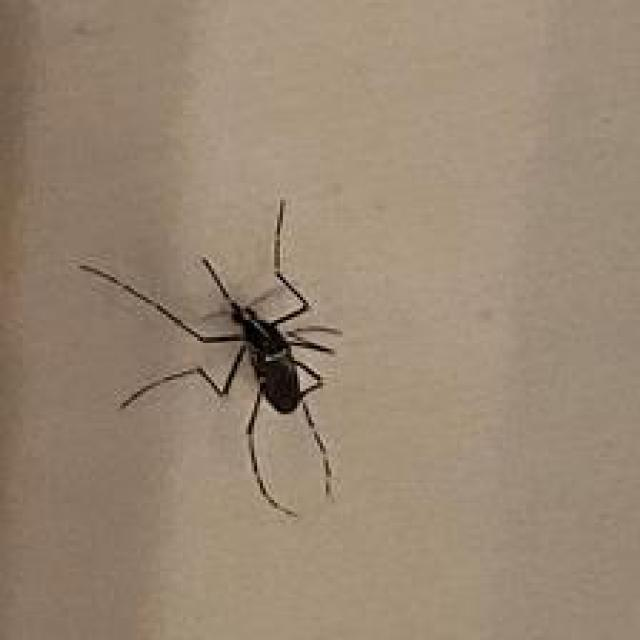Aedes albopictus: (77, 196, 343, 518)
